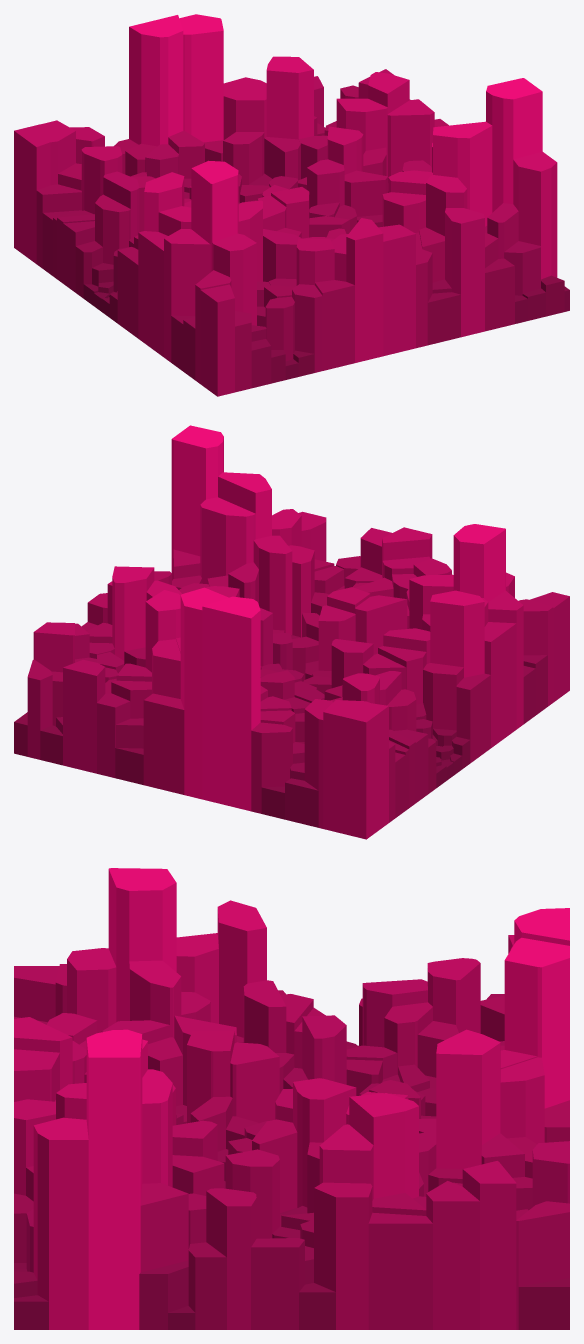
The model's file is VTOWNpi1.fbx.
3 views of the same model, one above another, from view 1: azimuth 30°, elevation 25°; view 2: azimuth 150°, elevation 25°; view 3: azimuth 270°, elevation 25° (orthographic). The views are drawn at different scales.
Parts seen in each view (by area): view 1: オブジェクト_251, オブジェクト_103, オブジェクト_214, オブジェクト_205, オブジェクト_207, オブジェクト_100, オブジェクト_177, オブジェクト_6, オブジェクト_211, オブジェクト_51, オブジェクト_206, オブジェクト_69 (+57 smaller); view 2: オブジェクト_251, オブジェクト_51, オブジェクト_103, オブジェクト_214, オブジェクト_159, オブジェクト_276, オブジェクト_179, オブジェクト_147, オブジェクト_230, オブジェクト_244, オブジェクト_200, オブジェクト_40 (+56 smaller); view 3: オブジェクト_103, オブジェクト_207, オブジェクト_214, オブジェクト_211, オブジェクト_37, オブジェクト_154, オブジェクト_230, オブジェクト_162, オブジェクト_58, オブジェクト_200, オブジェクト_161, オブジェクト_159 (+55 smaller).
Part boxes in pixels (box(x1,y1,x2,y2)): オブジェクト_251: box(129, 15, 183, 146); オブジェクト_103: box(486, 78, 542, 212); オブジェクト_214: box(179, 14, 223, 142); オブジェクト_205: box(346, 218, 383, 362); オブジェクト_207: box(513, 151, 557, 279); オブジェクト_100: box(445, 208, 484, 337); オブジェクト_177: box(433, 121, 492, 226); オブジェクト_6: box(378, 224, 415, 356); オブジェクト_211: box(266, 56, 313, 139); オブジェクト_51: box(14, 124, 50, 263); オブジェクト_206: box(200, 284, 234, 396); オブジェクト_69: box(164, 229, 210, 362); オブジェクト_251: box(202, 596, 260, 811); オブジェクト_51: box(340, 703, 388, 839); オブジェクト_103: box(171, 425, 223, 580); オブジェクト_214: box(180, 587, 228, 799); オブジェクト_159: box(430, 590, 484, 677); オブジェクト_276: box(63, 659, 105, 773); オブジェクト_179: box(143, 693, 184, 794); オブジェクト_147: box(200, 497, 255, 583); オブジェクト_230: box(453, 524, 505, 601); オブジェクト_244: box(484, 622, 516, 747); オブジェクト_200: box(112, 566, 154, 660); オブジェクト_40: box(253, 535, 292, 634); オブジェクト_103: box(86, 1029, 142, 1329); オブジェクト_207: box(33, 1117, 88, 1329); オブジェクト_214: box(504, 937, 569, 1108); オブジェクト_211: box(436, 1029, 500, 1168); オブジェクト_37: box(368, 1212, 432, 1329); オブジェクト_154: box(314, 1182, 372, 1329); オブジェクト_230: box(108, 868, 176, 1021); オブジェクト_162: box(426, 1181, 479, 1329); オブジェクト_58: box(462, 1161, 516, 1329); オブジェクト_200: box(349, 1093, 418, 1198); オブジェクト_161: box(206, 1188, 256, 1329); オブジェクト_159: box(217, 900, 266, 1037).
Bounding box in the file's own units: 100 × 100 × 54.
